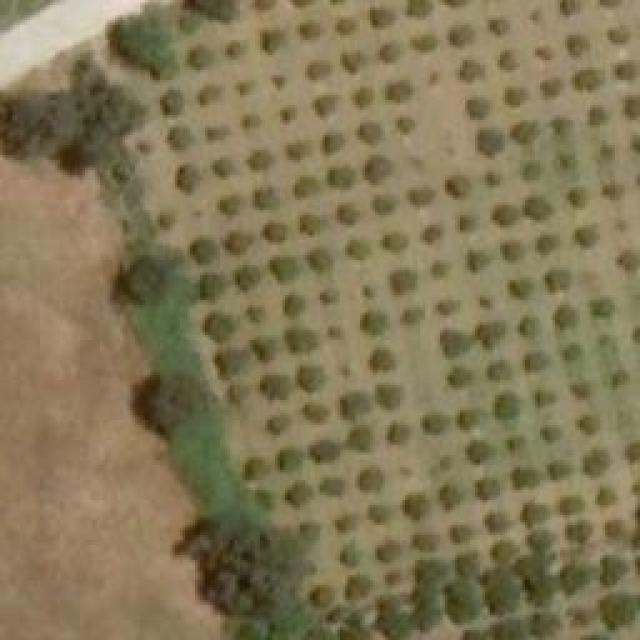Tree: (173, 508, 293, 623), (60, 55, 142, 171), (0, 90, 75, 165), (118, 13, 183, 78), (135, 373, 200, 436), (130, 250, 190, 310), (483, 563, 518, 613), (445, 575, 480, 623), (372, 597, 407, 640), (597, 593, 635, 628), (522, 560, 550, 603), (490, 393, 528, 423), (558, 560, 591, 593), (413, 590, 438, 630), (197, 0, 240, 22), (283, 327, 316, 355), (295, 362, 328, 390), (438, 330, 471, 358), (475, 320, 508, 348), (480, 357, 513, 385), (597, 553, 625, 586), (335, 612, 368, 640), (215, 350, 250, 375), (260, 375, 295, 400), (400, 492, 430, 520), (570, 65, 603, 90), (343, 428, 376, 453), (197, 272, 225, 300), (232, 262, 260, 290), (207, 315, 235, 343), (528, 613, 561, 636), (343, 575, 373, 600), (520, 500, 550, 525), (413, 560, 443, 585), (475, 130, 503, 155), (270, 255, 298, 280), (250, 335, 278, 360), (365, 158, 393, 183), (542, 270, 570, 295), (342, 393, 370, 418), (520, 353, 548, 378), (357, 468, 385, 493), (585, 450, 613, 475), (315, 285, 342, 310), (160, 87, 183, 115), (332, 203, 360, 226), (302, 400, 330, 423), (570, 225, 598, 248), (360, 310, 388, 333), (375, 385, 403, 408), (442, 365, 470, 388), (412, 530, 440, 553), (528, 195, 553, 220), (328, 163, 353, 188), (503, 238, 528, 263), (465, 438, 490, 463), (368, 505, 393, 530), (438, 485, 463, 510), (613, 248, 638, 273), (553, 115, 578, 140), (482, 167, 508, 191), (418, 413, 448, 433), (445, 23, 470, 46), (500, 85, 525, 108), (560, 33, 585, 56), (617, 92, 640, 117), (513, 120, 538, 143), (295, 215, 320, 238), (283, 293, 306, 318), (465, 248, 490, 271), (368, 348, 391, 373), (520, 318, 543, 343), (283, 483, 308, 506), (320, 478, 345, 501), (545, 458, 570, 481), (375, 540, 400, 563), (568, 603, 593, 626), (407, 33, 435, 53), (600, 180, 628, 200), (290, 175, 318, 195), (277, 448, 305, 468), (405, 185, 433, 205), (510, 468, 538, 488), (447, 525, 475, 545), (482, 513, 510, 533), (320, 133, 343, 156), (465, 98, 488, 121), (520, 160, 543, 183), (255, 188, 278, 211), (243, 458, 266, 481), (390, 270, 413, 293), (388, 423, 411, 446), (475, 478, 498, 501), (338, 545, 361, 568), (455, 553, 478, 576), (380, 235, 408, 253), (522, 532, 550, 550), (178, 165, 198, 190), (355, 123, 380, 143), (225, 233, 250, 253), (190, 240, 215, 260), (263, 413, 288, 433), (348, 240, 373, 260), (588, 300, 613, 320), (495, 620, 520, 640), (277, 102, 299, 124), (395, 115, 417, 137), (168, 128, 191, 148), (298, 20, 321, 40), (340, 50, 363, 70), (313, 93, 333, 116), (385, 83, 408, 103), (485, 18, 508, 38), (605, 25, 628, 45), (618, 60, 638, 83), (588, 105, 611, 125), (553, 153, 573, 176), (568, 188, 591, 208), (223, 193, 243, 216), (265, 223, 288, 243), (313, 443, 336, 463), (310, 248, 330, 271), (448, 175, 468, 198), (493, 205, 516, 225), (535, 233, 558, 253), (560, 343, 583, 363), (455, 410, 478, 430), (578, 413, 601, 433), (493, 543, 516, 563), (595, 485, 618, 505), (310, 588, 333, 608), (258, 30, 283, 48), (335, 17, 360, 35), (283, 142, 308, 160), (538, 77, 563, 95), (370, 195, 395, 213), (330, 515, 355, 533), (178, 17, 201, 35), (198, 85, 221, 103), (595, 140, 613, 163), (298, 522, 321, 540), (560, 495, 583, 513), (568, 522, 591, 540), (190, 48, 210, 68), (455, 215, 475, 235), (555, 305, 575, 325), (533, 388, 553, 408), (255, 490, 275, 510), (398, 308, 423, 323), (225, 40, 245, 58), (370, 7, 390, 25), (305, 60, 325, 78), (250, 150, 268, 170), (460, 62, 480, 80), (245, 305, 265, 323), (420, 225, 440, 243), (155, 210, 175, 228), (605, 520, 625, 538), (205, 125, 228, 140), (405, 0, 428, 15), (555, 0, 578, 15), (538, 425, 561, 440), (505, 432, 523, 450), (235, 78, 252, 97), (505, 283, 525, 298), (570, 380, 590, 395), (625, 443, 640, 463), (270, 73, 288, 89), (215, 160, 233, 175), (380, 45, 398, 60), (497, 53, 515, 68), (535, 45, 553, 60), (430, 263, 448, 278), (440, 300, 458, 315), (325, 325, 343, 340), (382, 570, 400, 585), (358, 90, 373, 105), (240, 115, 255, 130)
